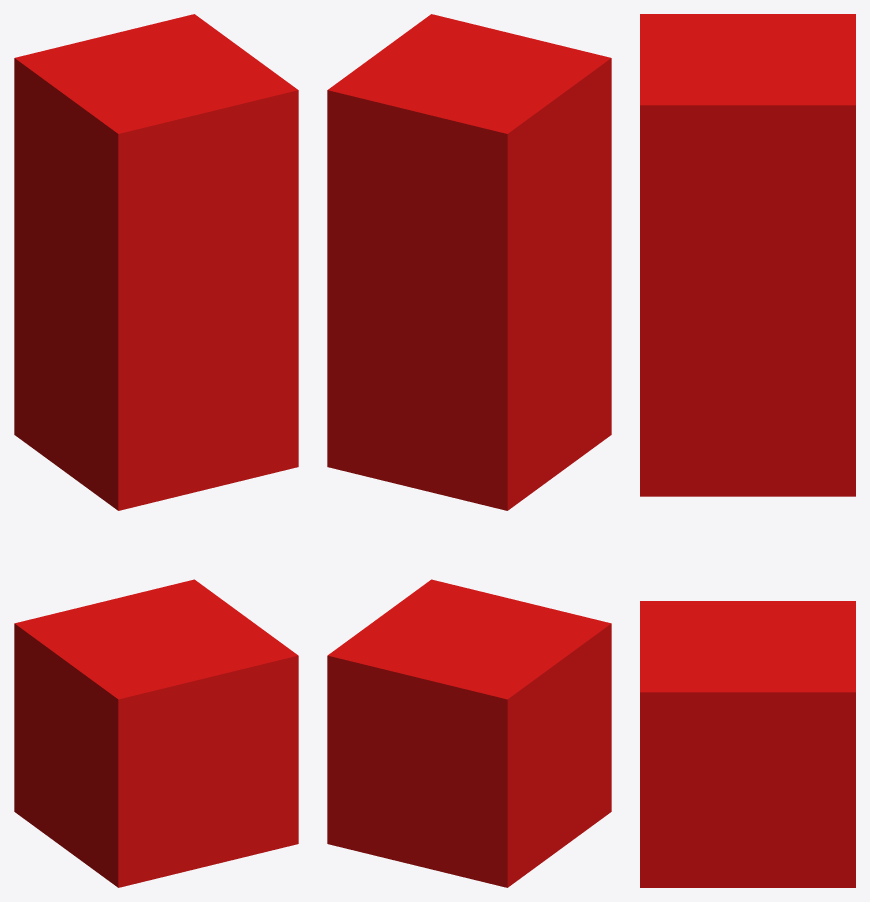
File: exclamação.obj
3 renders of one model, left to right at view 1: azimuth 30°, elevation 25°; view 2: azimuth 150°, elevation 25°; view 3: azimuth 270°, elevation 25°, orthographic. The views are drawn at different scales.
Size of the model in its own units: 0.1 by 0.4 by 0.1.
Materials: 1 (1 with a texture image).
